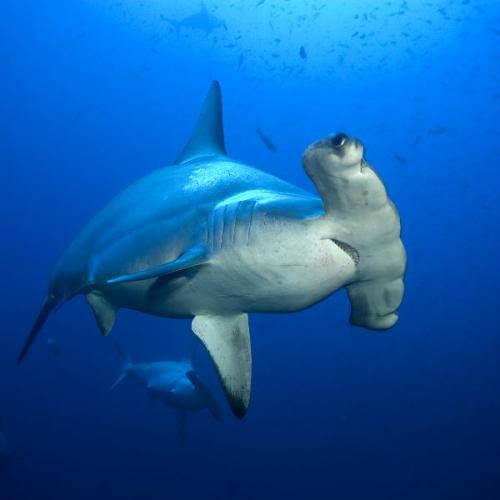shark-endangered: (21, 81, 409, 418), (106, 340, 220, 440)
